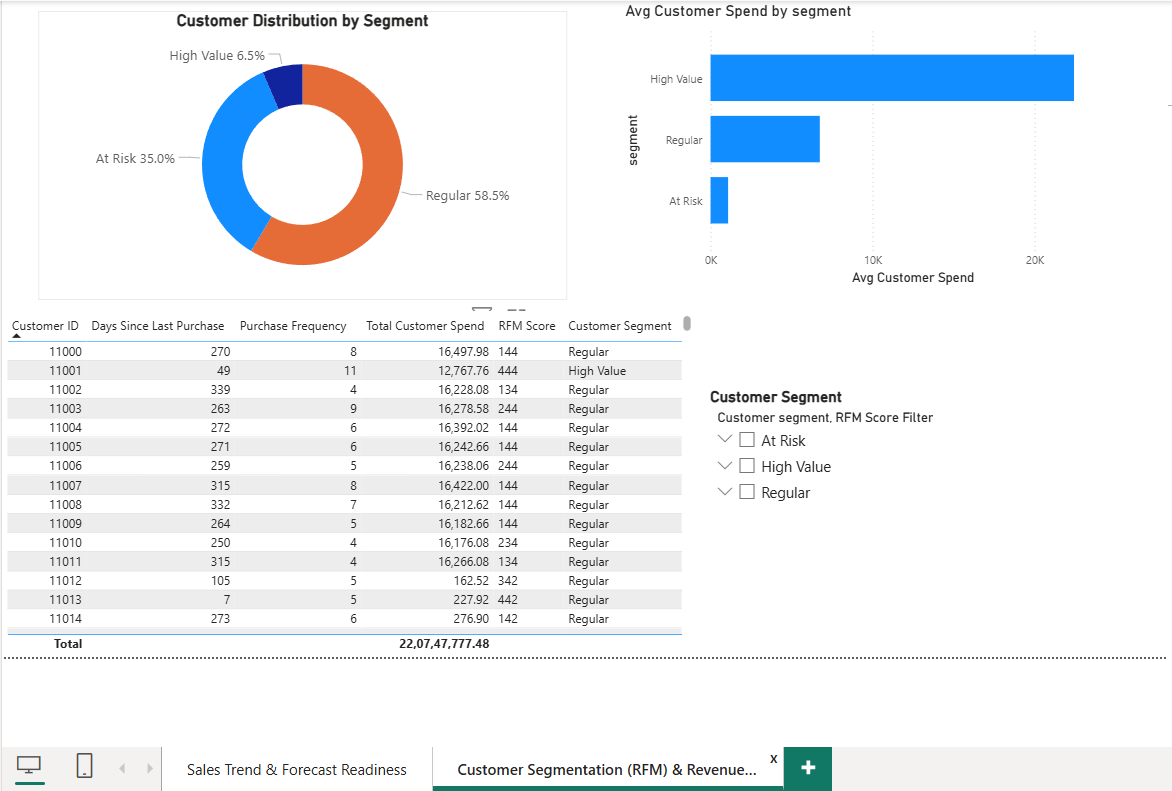

The page's visual inventory and layout, read from the dashboard file:
{"tool":"powerbi","page":{"name":"Customer Segmentation (RFM) & Revenue Contribution","canvas":[1280,720],"ordinal":1},"visuals":[{"type":"donutChart","title":"Customer Distribution by Segment","fields":{"Category":["dim_customer_segment.segment"],"Y":["CountNonNull(dim_customer_segment.customer_id)"]},"box":[39.8,11,580.4,317],"z":0},{"type":"tableEx","fields":{"Values":["dim_customer_segment.customer_id","dim_customer_segment.recency","dim_customer_segment.frequency","Sum(dim_customer_segment.monetary_value)","dim_customer_segment.RFM_Score","dim_customer_segment.segment"]},"box":[0,340.3,761.6,380.1],"z":1000},{"type":"slicer","title":"Customer Segment","fields":{"Values":["dim_customer_segment.segment","dim_customer_segment.RFM_Score"]},"box":[772.6,424,465.2,214.1],"z":2000},{"type":"clusteredBarChart","fields":{"Category":["dim_customer_segment.segment"],"Y":["dim_customer_segment.Avg Customer Spend"]},"box":[679.2,0,558.5,317],"z":2001}]}

Visuals, with their boxes on the page's 1280x720 design canvas (x1, y1, x2, y2). These are canvas units, not pixel positions in the 1172x791 screenshot, which may show the page scaled, cropped or inside an application window:
"Customer Distribution by Segment" donutChart: {"x1": 40, "y1": 11, "x2": 620, "y2": 328}
tableEx - dim_customer_segment.customer_id x dim_customer_segment.recency: {"x1": 0, "y1": 340, "x2": 762, "y2": 720}
"Customer Segment" slicer: {"x1": 773, "y1": 424, "x2": 1238, "y2": 638}
clusteredBarChart - dim_customer_segment.segment x dim_customer_segment.Avg Customer Spend: {"x1": 679, "y1": 0, "x2": 1238, "y2": 317}
